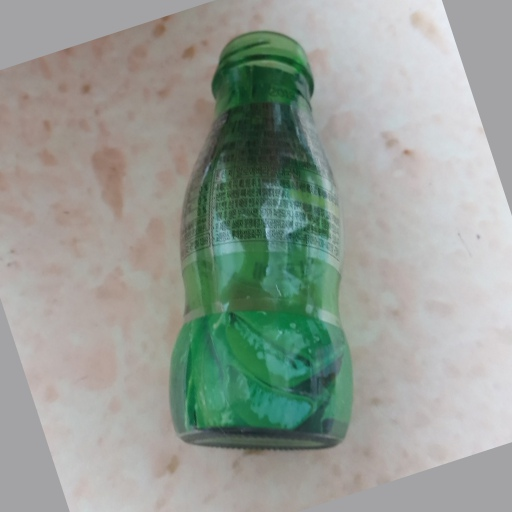Glass_4: (175, 31, 353, 456)
